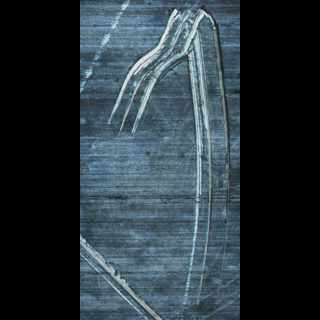d: (101, 2, 231, 311), (80, 227, 165, 320), (80, 0, 139, 96)
